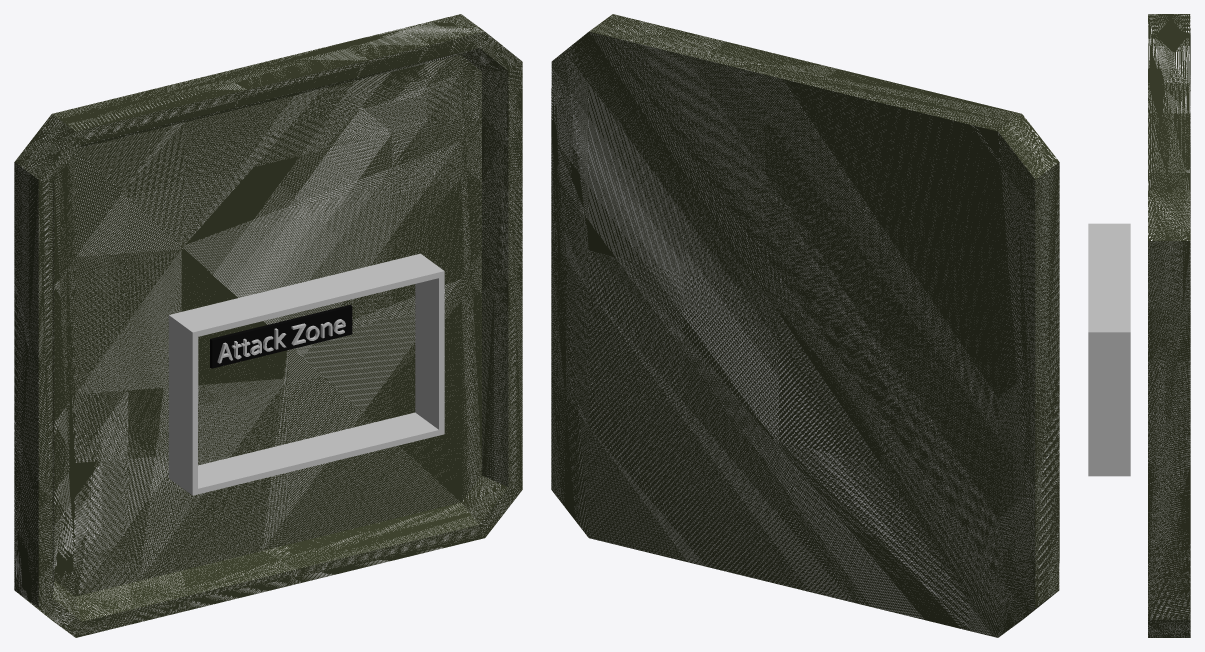
File: CM_-_Attack_Zone.obj
3 renders of one model, left to right at view 1: azimuth 30°, elevation 25°; view 2: azimuth 150°, elevation 25°; view 3: azimuth 270°, elevation 25°, orthographic. The views are drawn at different scales.
Visible parts, largest first — view 1: Button.001_ID13, Button_ID3, SM_CM_-_Attack_Zone_path1763-2.068; view 2: Button_ID3; view 3: Button_ID3, SM_CM_-_Attack_Zone_path1763-2.068.
Boxes of the visible parts, left/top/right/bottom form: Button.001_ID13: left=52, top=48, right=508, bottom=621; Button_ID3: left=14, top=14, right=522, bottom=637; SM_CM_-_Attack_Zone_path1763-2.068: left=168, top=253, right=444, bottom=495; Button_ID3: left=551, top=14, right=1059, bottom=637; Button_ID3: left=1148, top=14, right=1190, bottom=637; SM_CM_-_Attack_Zone_path1763-2.068: left=1088, top=223, right=1130, bottom=476.
Bounding box in the file's own units: 1 × 1 × 0.207.
